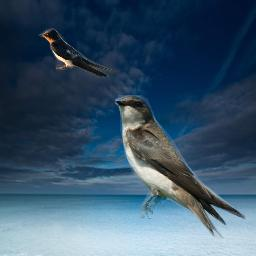Swallow: (115, 95, 246, 239), (38, 27, 118, 78)
